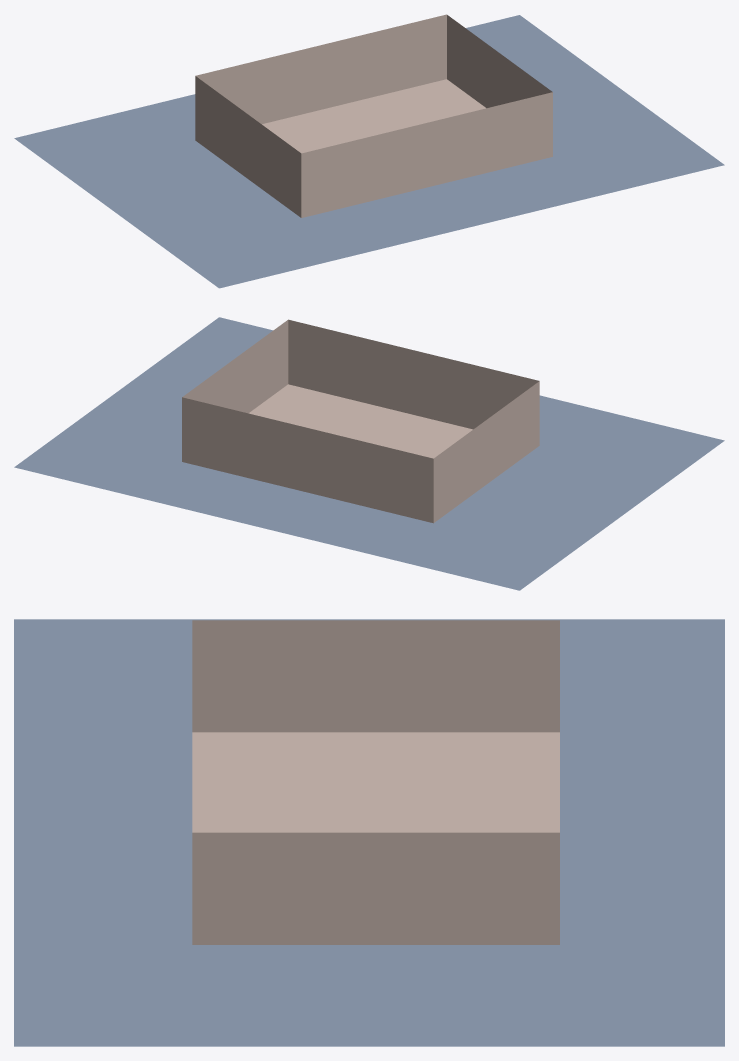
File: walltest.glb
3 renders of one model, top to bottom at view 1: azimuth 30°, elevation 25°; view 2: azimuth 150°, elevation 25°; view 3: azimuth 270°, elevation 25°, orthographic. The views are drawn at different scales.
Visible parts, largest first — view 1: wallMesh2, wallMesh1; view 2: wallMesh2, wallMesh1; view 3: wallMesh2, wallMesh1.
Part boxes in pixels (bbox=[...]): wallMesh2: bbox=[14, 15, 724, 288]; wallMesh1: bbox=[195, 14, 552, 217]; wallMesh2: bbox=[14, 317, 724, 590]; wallMesh1: bbox=[182, 319, 539, 523]; wallMesh2: bbox=[14, 619, 724, 1046]; wallMesh1: bbox=[192, 620, 559, 944].
Size of the model in its own units: 3.2 by 0.3907 by 2.25.
